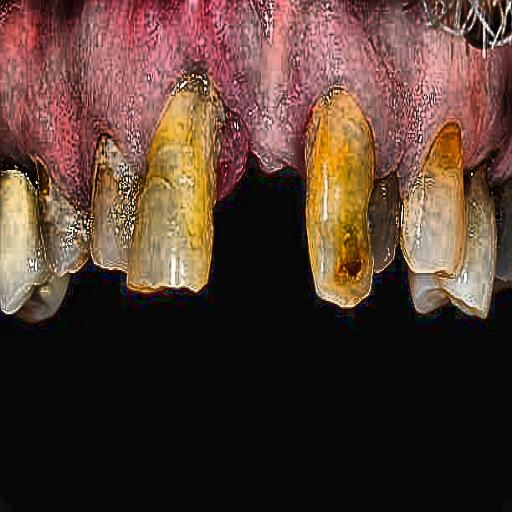Calculus: (292, 56, 497, 316), (70, 68, 244, 286), (1, 123, 82, 312)
